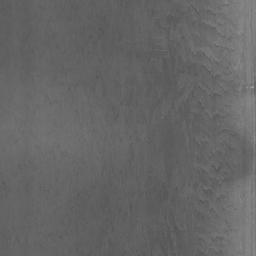Silk spot: (95, 0, 256, 256), (59, 186, 96, 238), (77, 14, 108, 54), (20, 29, 34, 56), (93, 71, 105, 96)
